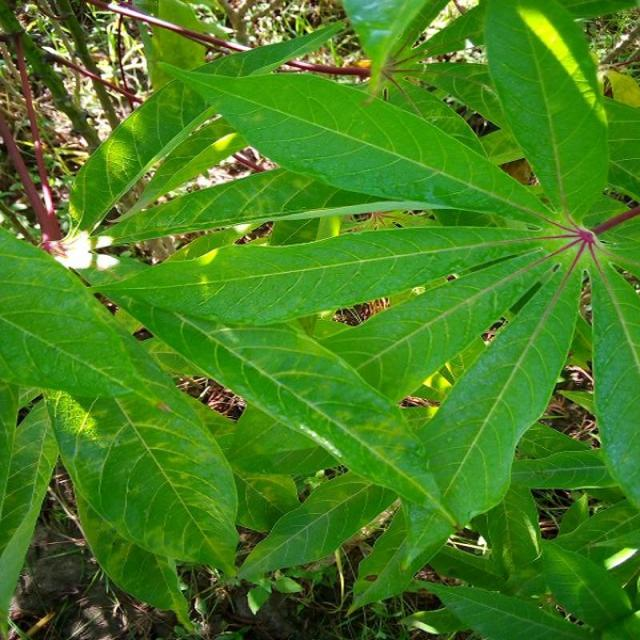cassava leaf: (1, 1, 638, 630), (0, 224, 241, 630), (482, 0, 610, 227)
